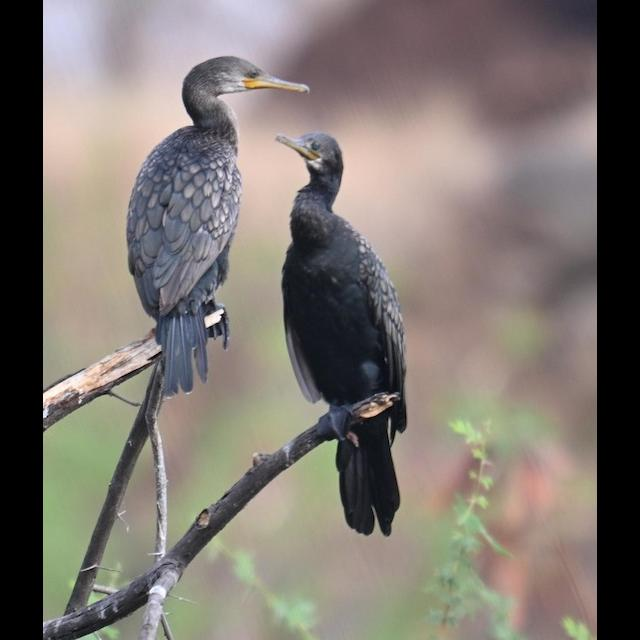cormorant: (108, 61, 318, 387), (268, 122, 417, 544)
